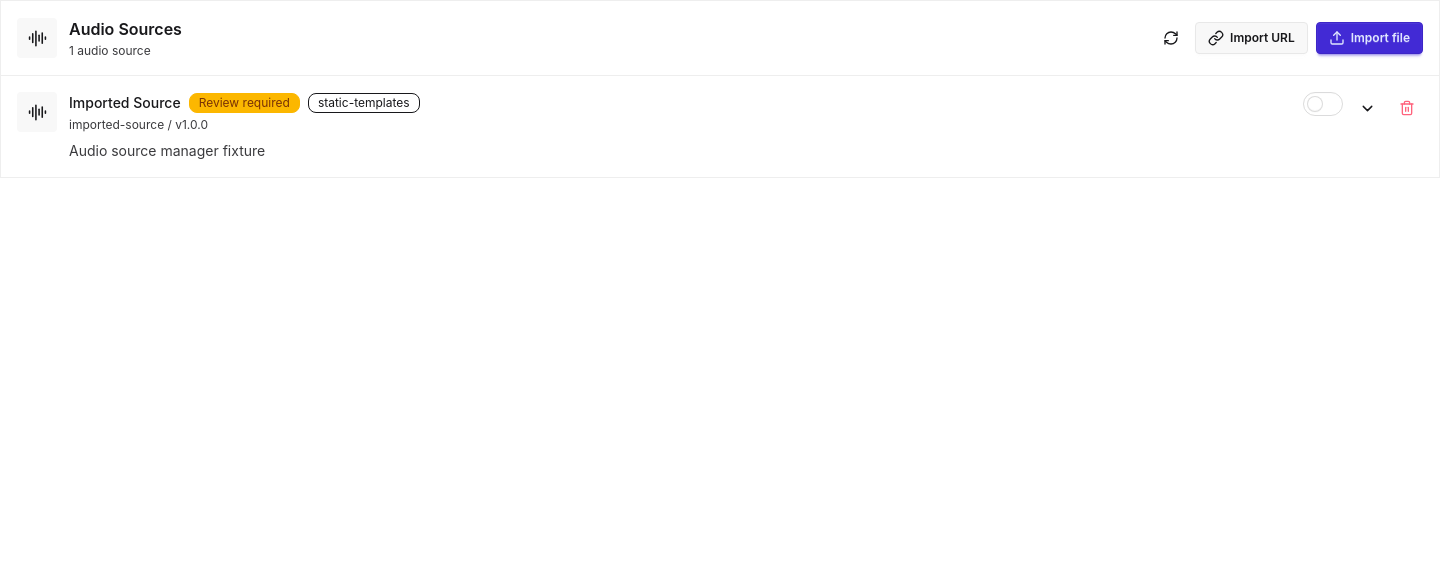
Test: AudioSourceManager › checks an individual catalog source and renders its availability
The image size is (1440, 566).
Click the button named "Inspect Imported Source".
click(1367, 108)  # box [1351,92,1383,124]
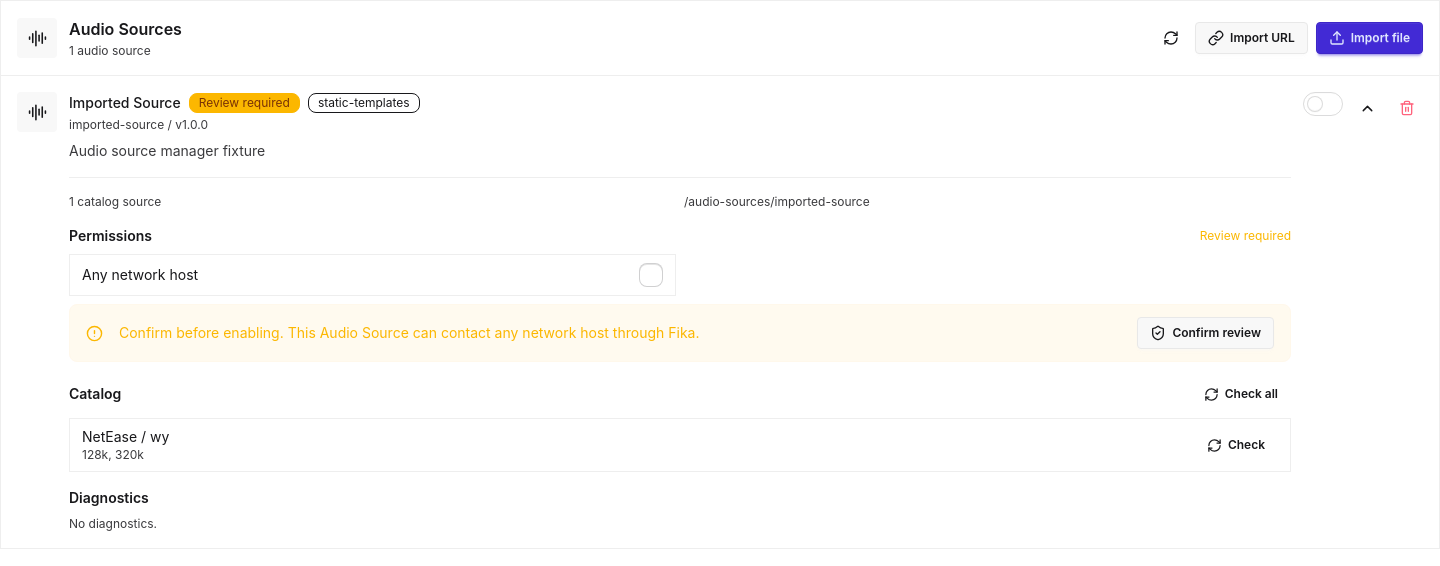
Click the button with aria-label "Check NetEase".
click(1236, 445)  # box [1194,429,1278,461]
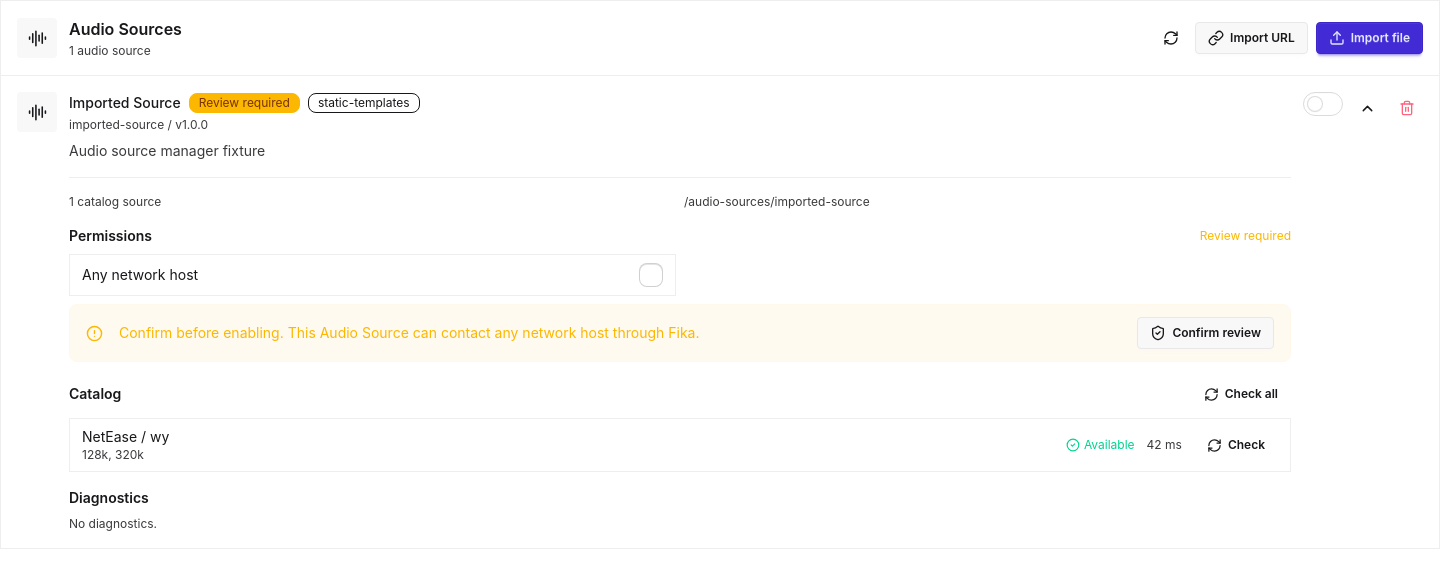
expect the text "Available" is shown: met, box [1066,437,1135,453]
expect the text "42 ms" is shown: met, box [1147,437,1182,453]
